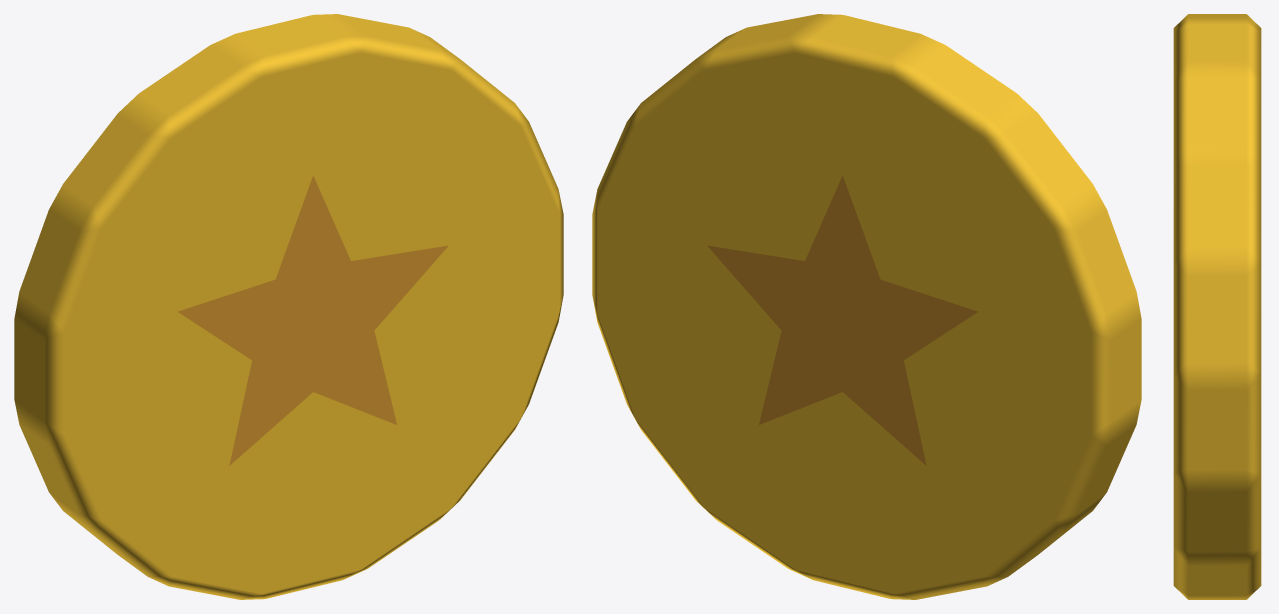
File: CM_Event_Coin.fbx
3 views of the same model, side by side, from view 1: azimuth 30°, elevation 25°; view 2: azimuth 150°, elevation 25°; view 3: azimuth 270°, elevation 25° (orthographic). The views are drawn at different scales.
Visible parts, largest first — view 1: Body; view 2: Body; view 3: Body.
Part boxes in pixels (x1,y1,x2,y2): Body: (14,14,563,599); Body: (592,14,1141,599); Body: (1173,14,1261,599).
Size of the model in its own units: 2 by 0.324 by 2.
1 material, 1 textured.
